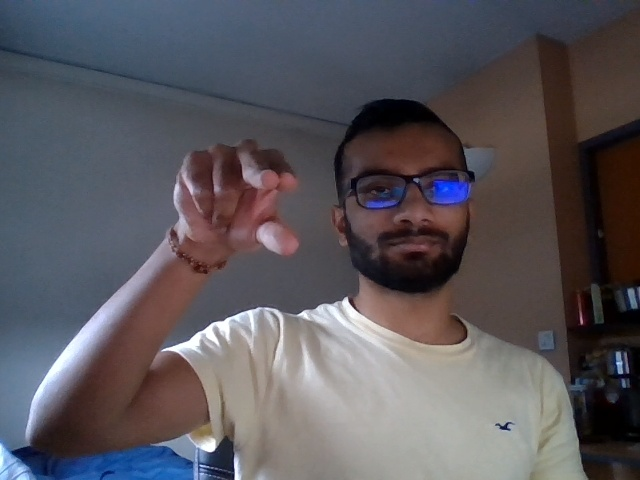No: (131, 119, 311, 270)
